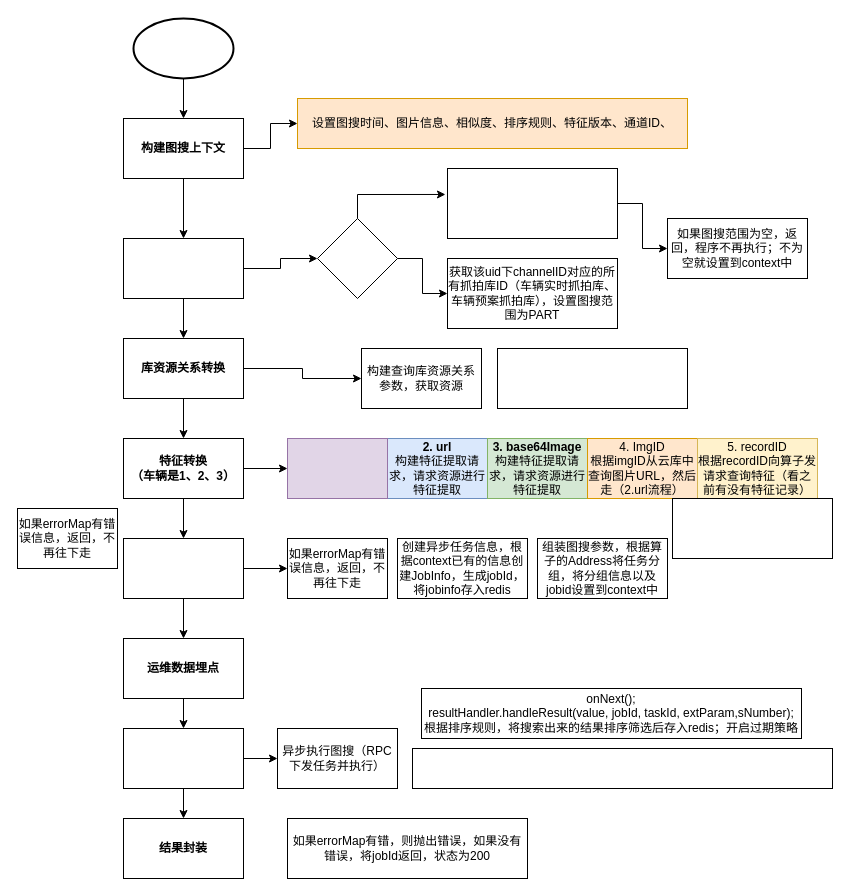
This 850x896 diagram has some shape labels left out. Here are the shapes that lost their labels. From the top down, the box of each, then its label:
(132, 17, 234, 79): Sass下发任务
(446, 168, 618, 238): 获取该uid下所有抓拍库ID（车辆实时抓拍库、车辆预案抓拍库），设置图搜范围为ALL
(122, 238, 244, 298): 设置图搜范围 （ 将 通道 id 转换成库主键 id 确定检索范围 ）
(316, 218, 398, 298): channelIds 是否为空
(496, 348, 688, 408): 如果获取到的资源为空，程序不再往下执行；有的话将算子资源以Address为key，资源信息为value保存为map，设置到context中
(286, 438, 388, 498): 1. feature 有特征则直接获取特征
(672, 498, 832, 558): 如果特征获取过程中出现错误信息，则将错误信息设置到context中（后续会判断）
(122, 538, 244, 598): 图搜任务分组
(122, 728, 244, 788): 执行图搜
(412, 748, 832, 788): onCompleted(); 任务执行完后，将JobStatus更新为FINISHED，并存入Redis，更新过期时间
